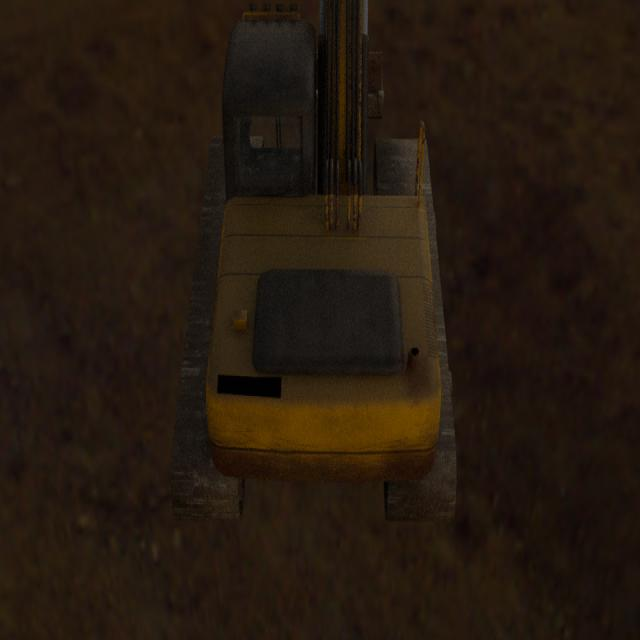excavator: (170, 0, 457, 524)
